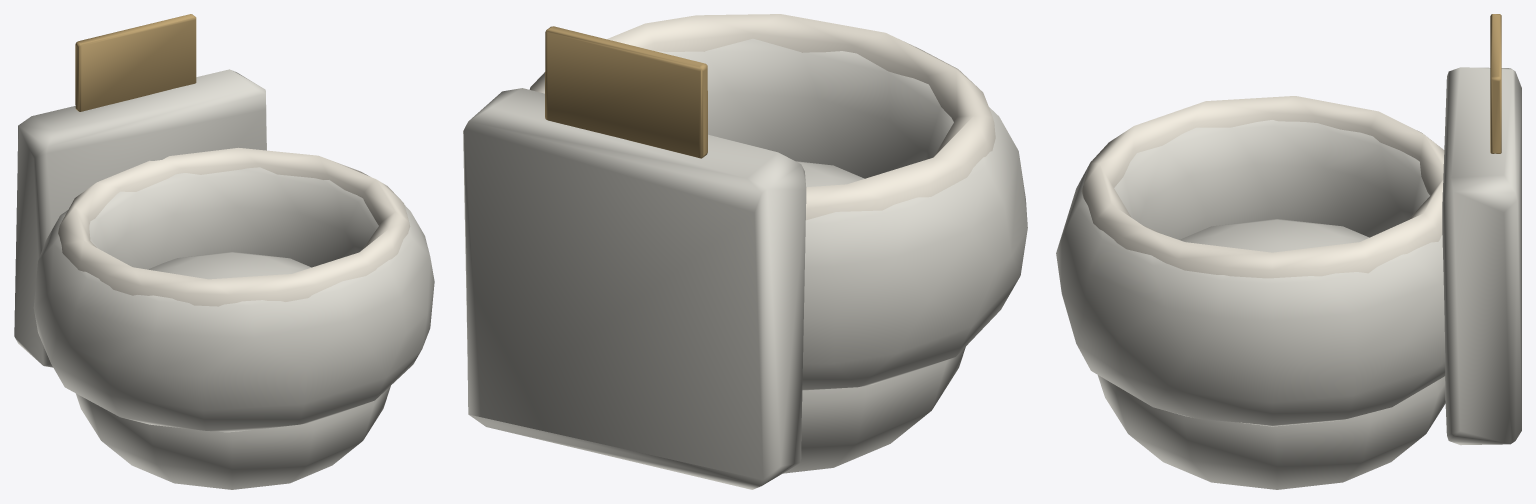
The model's file is toilet-12-0.lod.glb.
3 views of the same model, side by side, from view 1: azimuth 30°, elevation 25°; view 2: azimuth 150°, elevation 25°; view 3: azimuth 270°, elevation 25° (orthographic). The views are drawn at different scales.
Visible parts, largest first — view 1: upholstery, part, flush-plate; view 2: upholstery, part, flush-plate; view 3: upholstery, part, flush-plate.
Boxes of the visible parts, <box> form: upholstery: <box>14,69,434,489</box>; part: <box>58,147,410,306</box>; flush-plate: <box>75,14,196,111</box>; upholstery: <box>463,38,1027,489</box>; part: <box>529,14,995,220</box>; flush-plate: <box>545,26,707,158</box>; upholstery: <box>1056,67,1521,489</box>; part: <box>1081,96,1444,278</box>; flush-plate: <box>1490,14,1501,153</box>.
Bounding box in the file's own units: 1 × 1 × 1.
